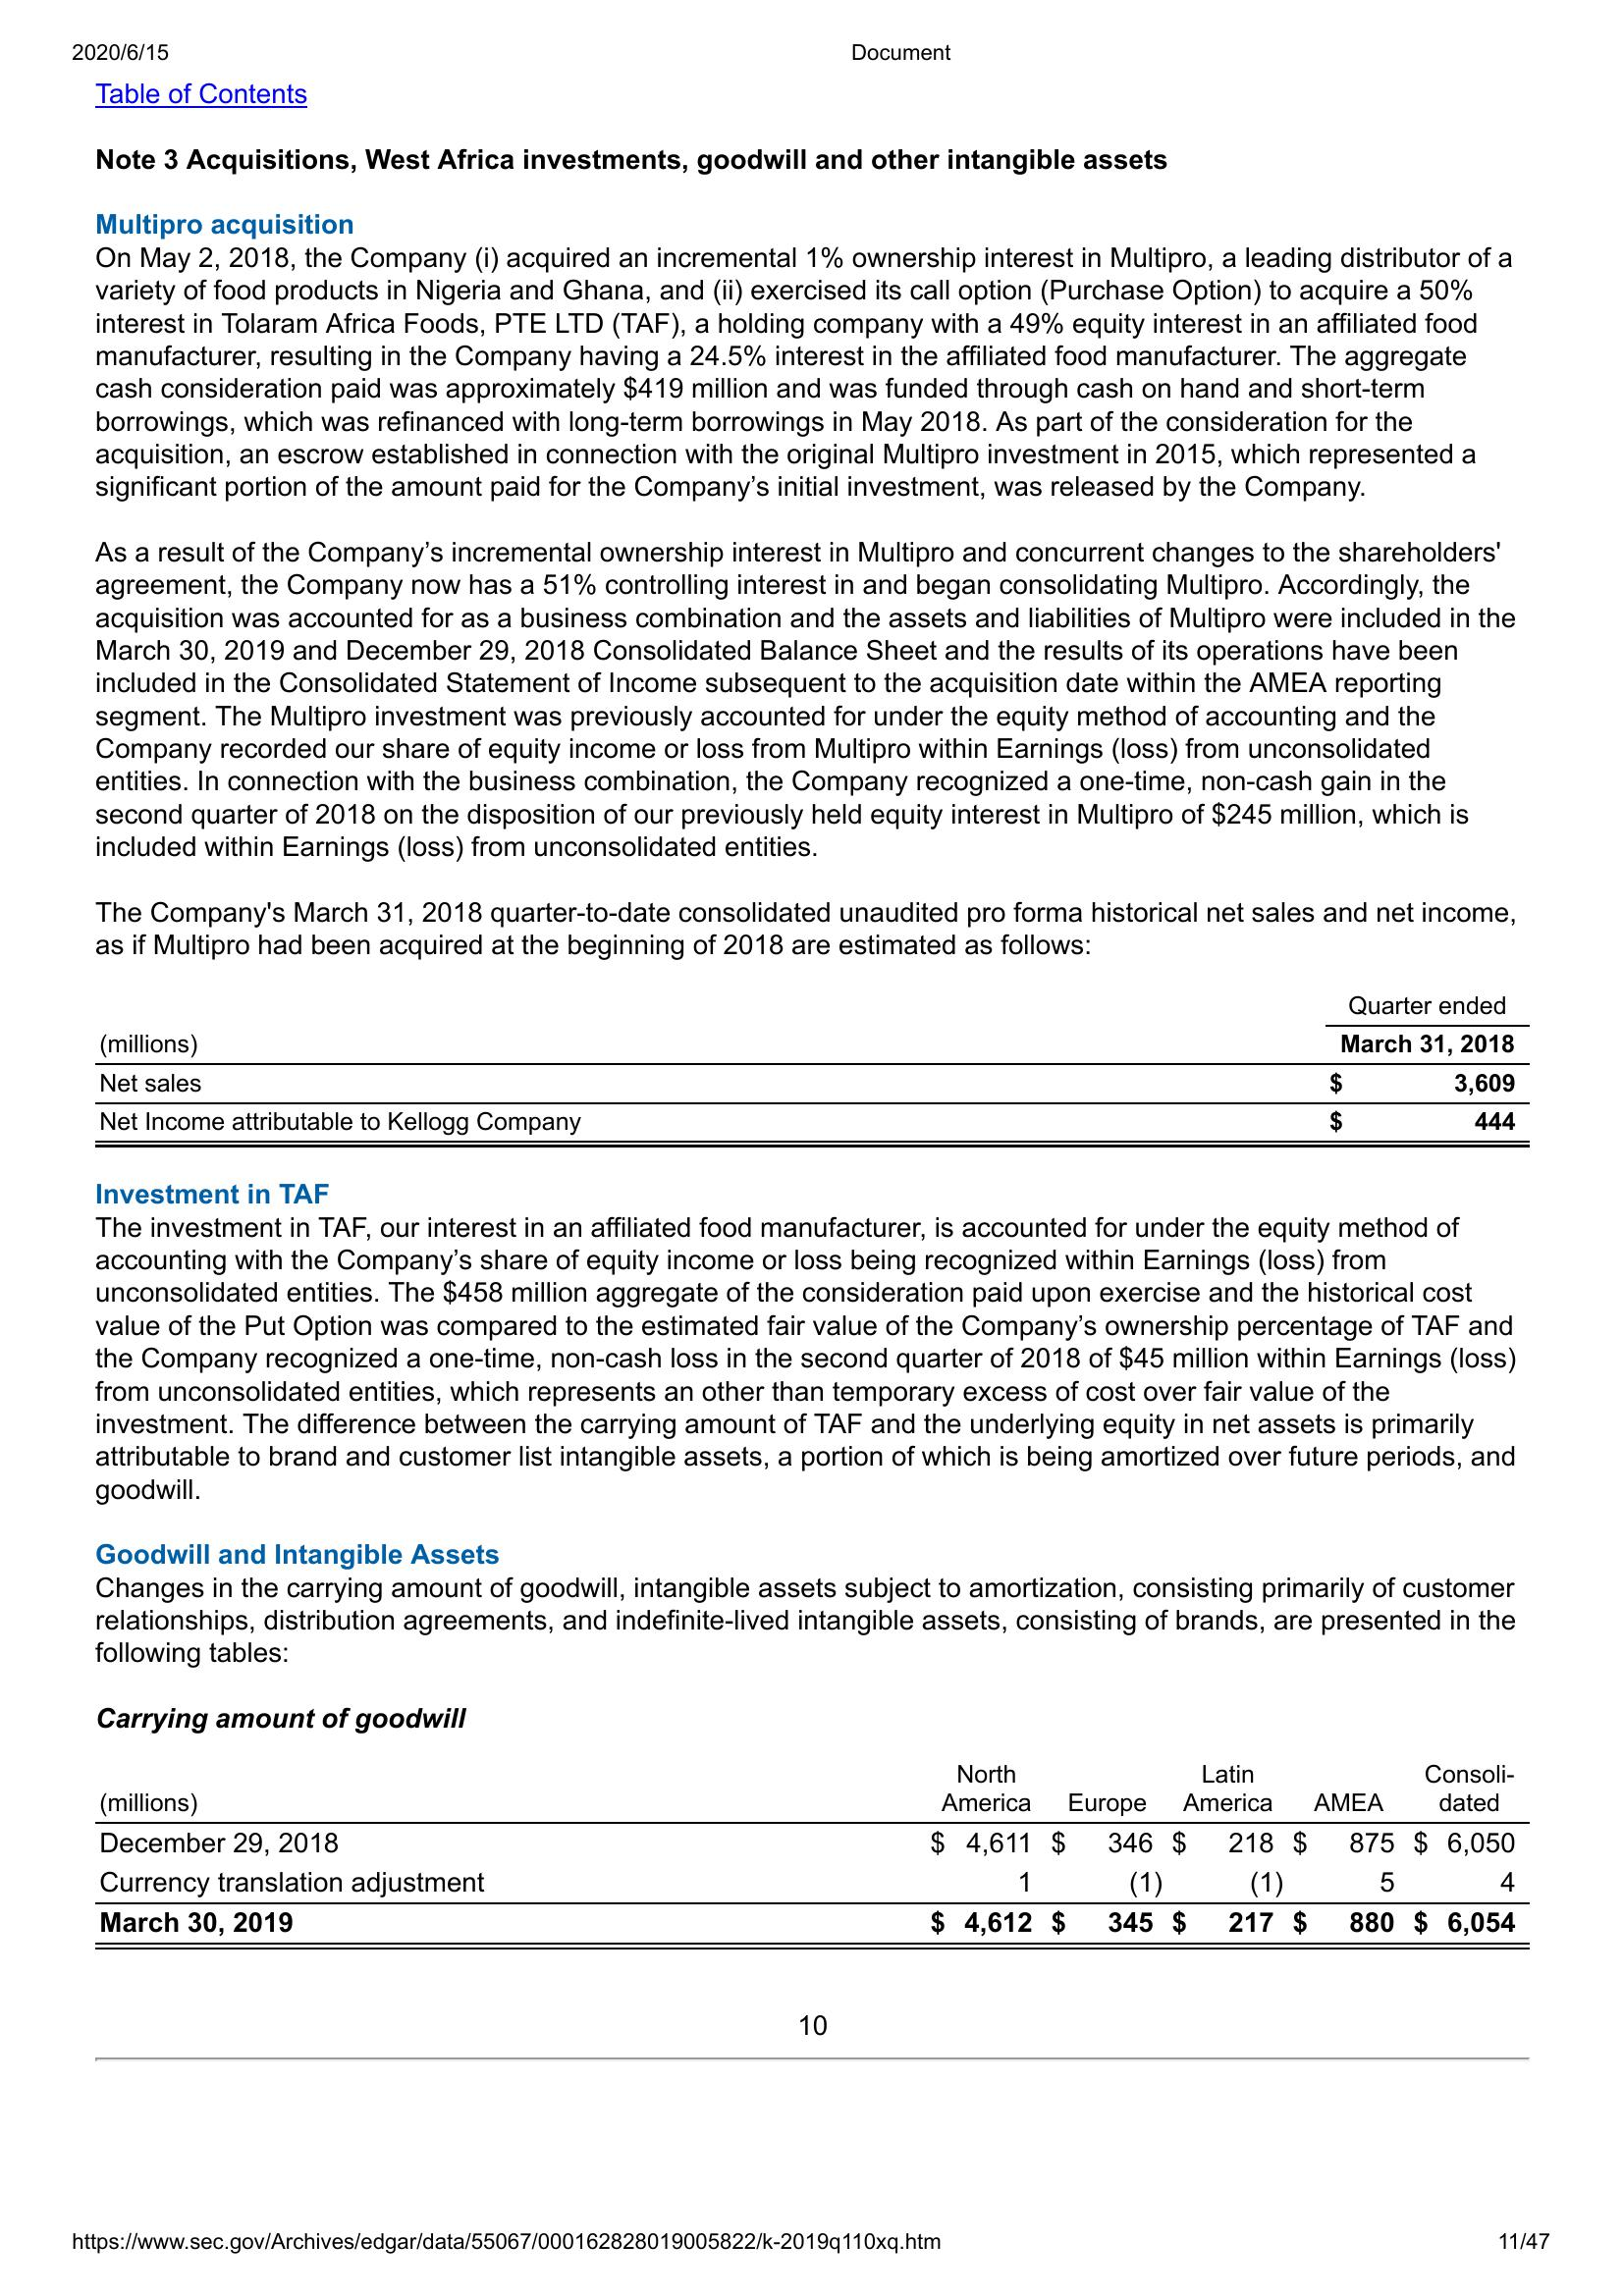table: (81, 1754, 1539, 1957), (88, 992, 1542, 1155)
